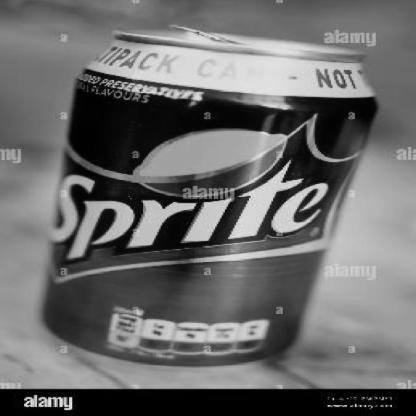alumunium_can: (38, 24, 380, 366)
